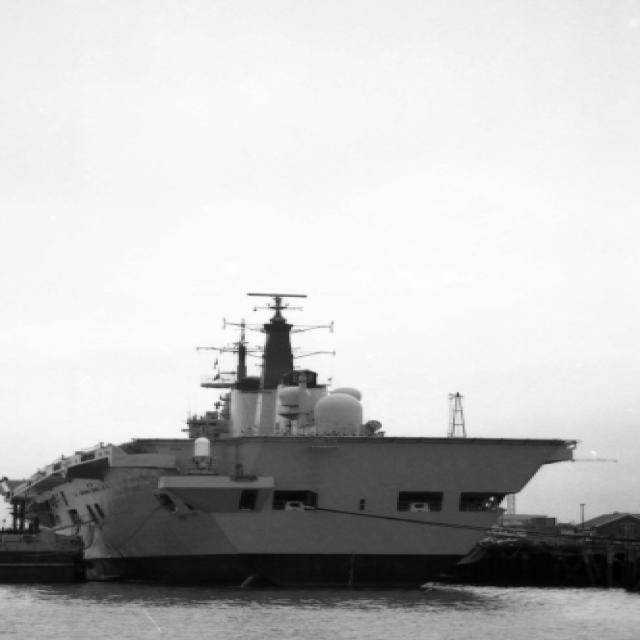Portanaves: (1, 261, 583, 595)
